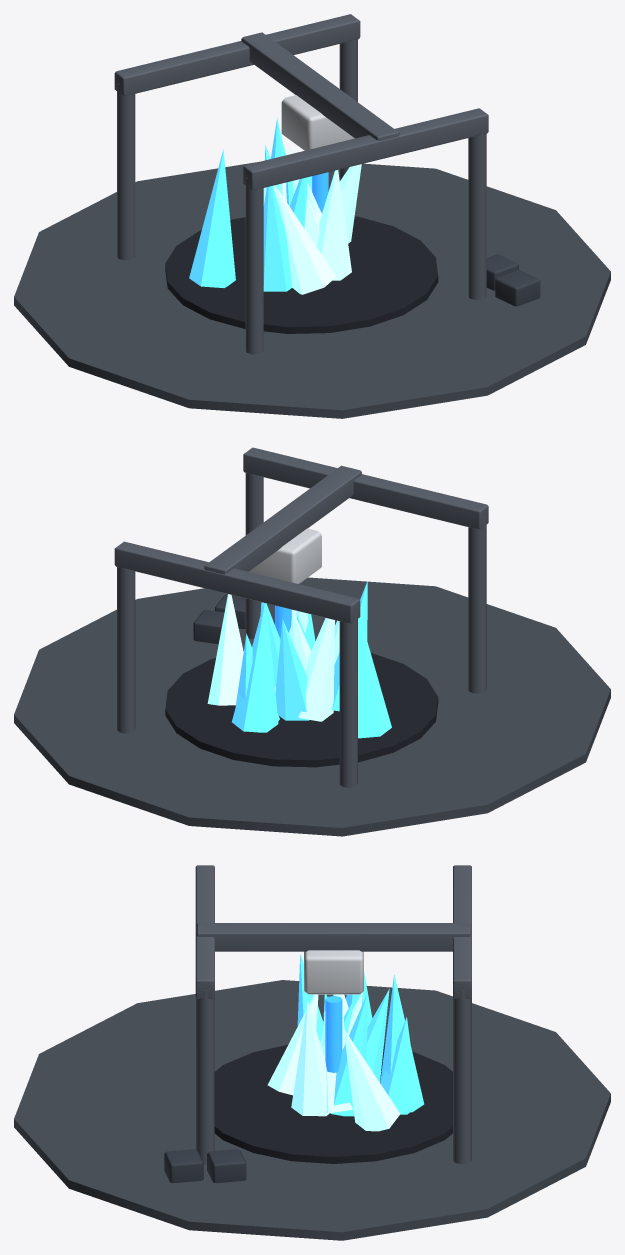
The model's file is mine_scifi_blue.glb.
The picture shows the model from 3 angles, top to bottom: view 1: azimuth 30°, elevation 25°; view 2: azimuth 150°, elevation 25°; view 3: azimuth 270°, elevation 25°; orthographic projection.
Parts seen in each view (by area): view 1: mine_scifi_blue; view 2: mine_scifi_blue; view 3: mine_scifi_blue.
Boxes of the visible parts, bbox=[...] form: mine_scifi_blue: bbox=[14, 14, 610, 418]; mine_scifi_blue: bbox=[14, 447, 610, 836]; mine_scifi_blue: bbox=[14, 865, 610, 1240].
Size of the model in its own units: 1.39 by 0.505 by 1.39.
4 materials, 1 textured.
